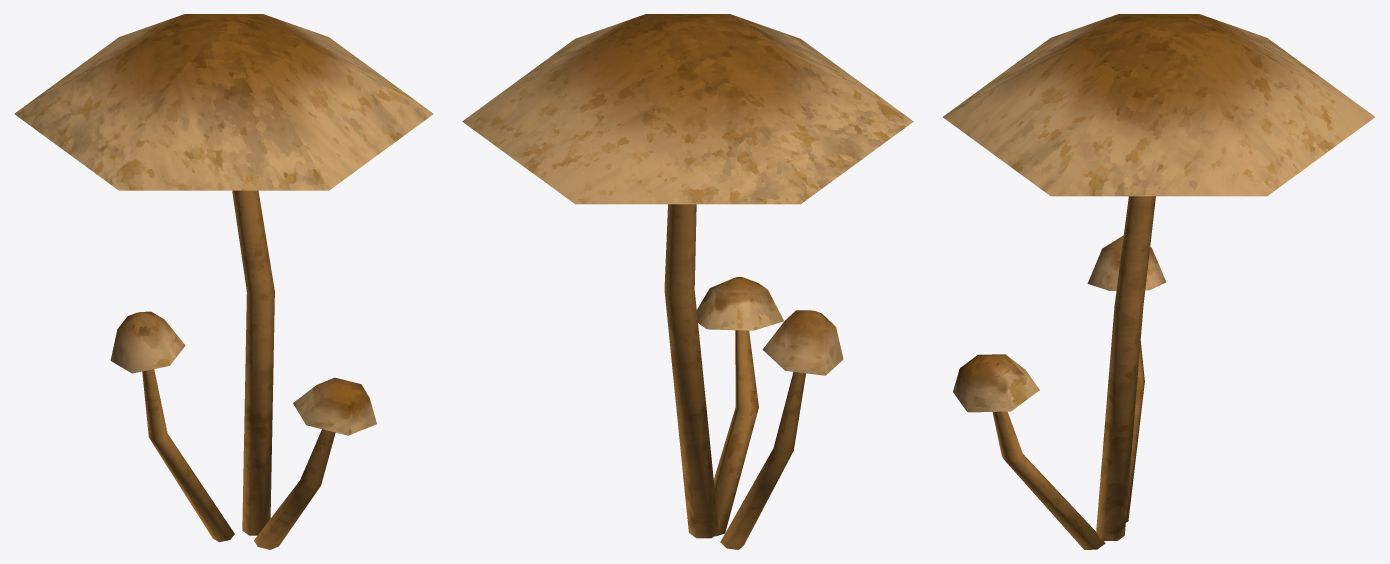
File: art_3D model_environment_mycenia.fbx
3 renders of one model, left to right at view 1: azimuth 30°, elevation 25°; view 2: azimuth 150°, elevation 25°; view 3: azimuth 270°, elevation 25°, orthographic. The views are drawn at different scales.
Visible parts, largest first — view 1: Cylinder; view 2: Cylinder; view 3: Cylinder.
Part boxes in pixels (bbox=[...]): Cylinder: bbox=[14, 14, 433, 549]; Cylinder: bbox=[462, 14, 913, 549]; Cylinder: bbox=[943, 14, 1374, 549].
Bounding box in the file's own units: 18.94 × 28.55 × 21.87.
1 material, 1 textured.
